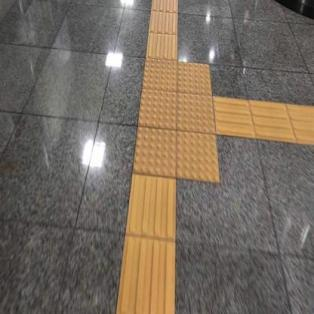Podoctatil: (120, 43, 232, 202), (116, 180, 180, 313), (218, 93, 314, 146), (145, 0, 179, 58)
